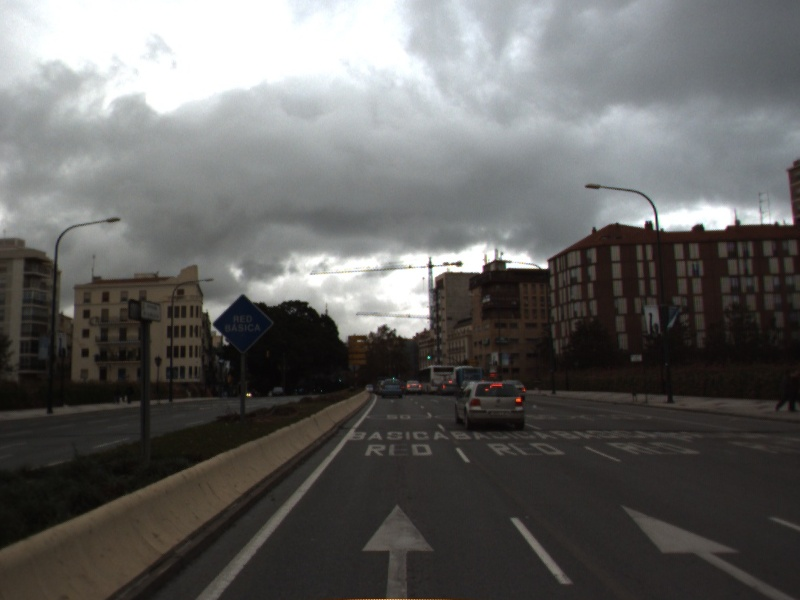STRAIGHT: (616, 500, 800, 600), (356, 499, 439, 600)
